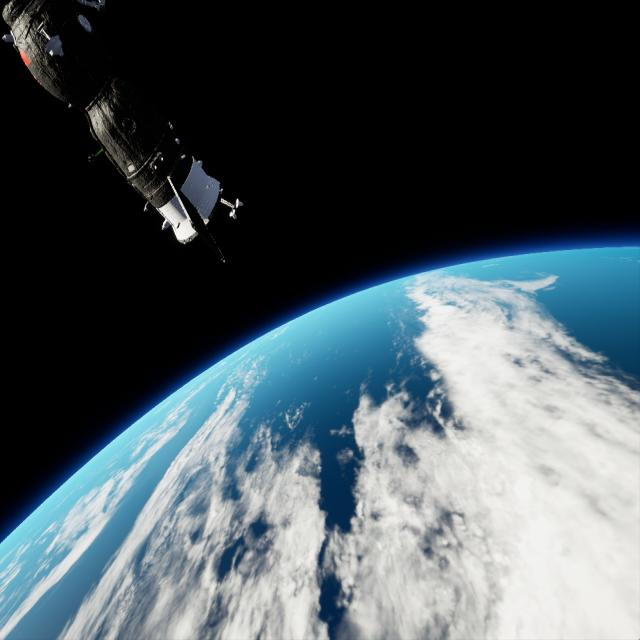Satellites revolving around earth: (1, 244, 639, 638), (1, 0, 245, 266)
